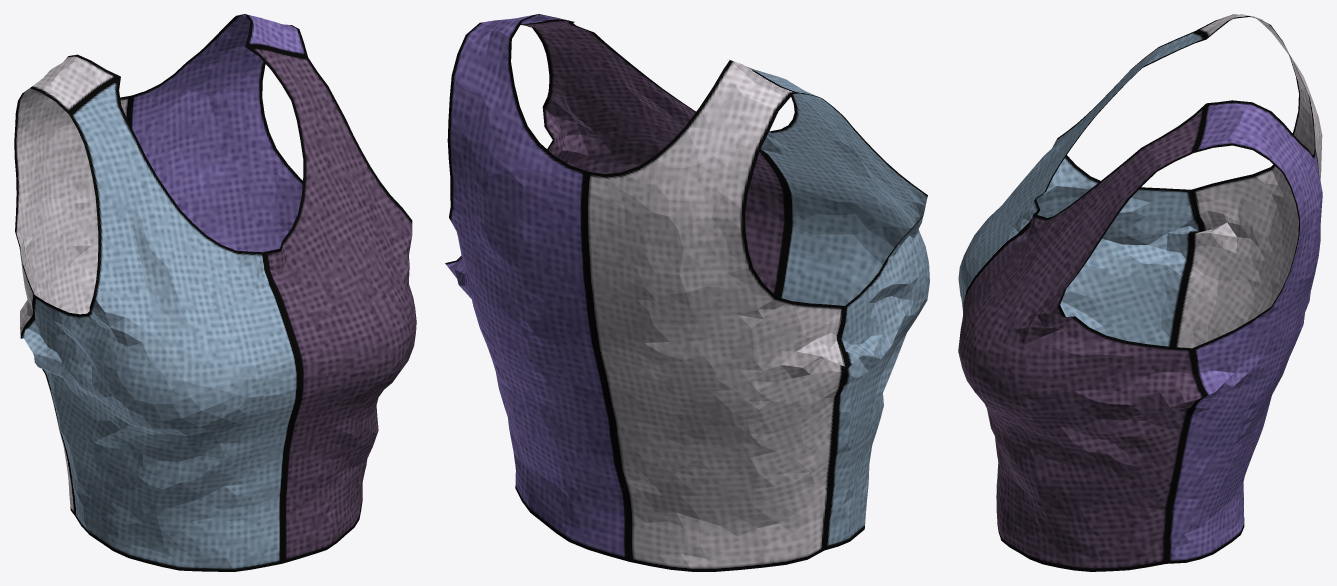
The model's file is tank_knit4_a84_sim.obj.
The picture shows the model from 3 angles, left to right: view 1: azimuth 30°, elevation 25°; view 2: azimuth 150°, elevation 25°; view 3: azimuth 270°, elevation 25°; orthographic projection. The views are drawn at different scales.
Size of the model in its own units: 22.91 by 28.35 by 20.39.
1 material, 1 textured.
